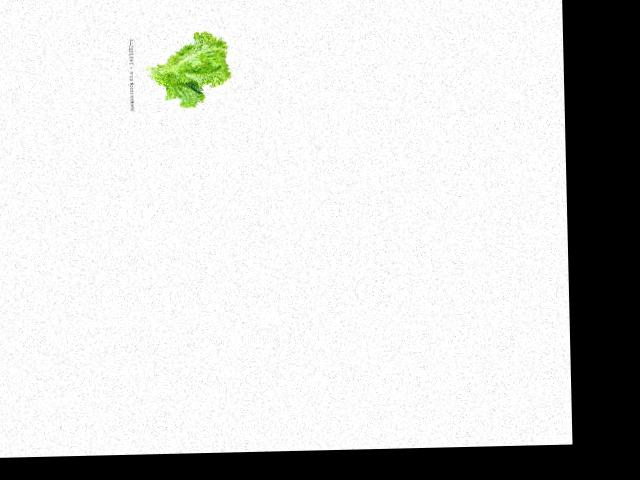lettuce: (139, 31, 233, 111)
